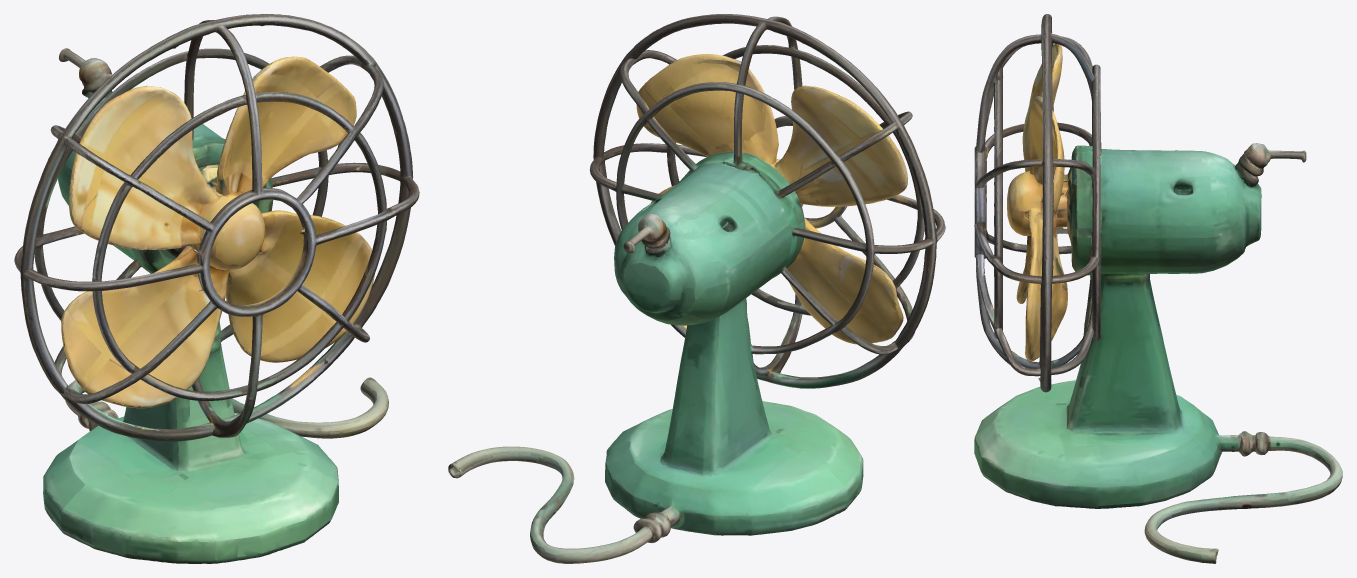
Rendered from fan-fixed.glb.
3 renders of one model, left to right at view 1: azimuth 30°, elevation 25°; view 2: azimuth 150°, elevation 25°; view 3: azimuth 270°, elevation 25°, orthographic. The views are drawn at different scales.
Visible parts, largest first — view 1: geometry_0; view 2: geometry_0; view 3: geometry_0.
Boxes of the visible parts, x1,y1,x2,y2 form: geometry_0: (14,14,419,563); geometry_0: (448,14,945,563); geometry_0: (974,14,1342,563).
Size of the model in its own units: 0.4208 by 0.45 by 0.3514.
Materials: 1 (1 with a texture image).
